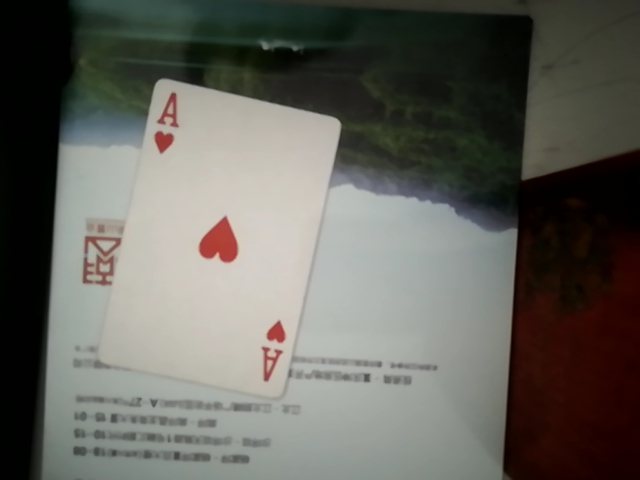hx a: (85, 74, 342, 397)
